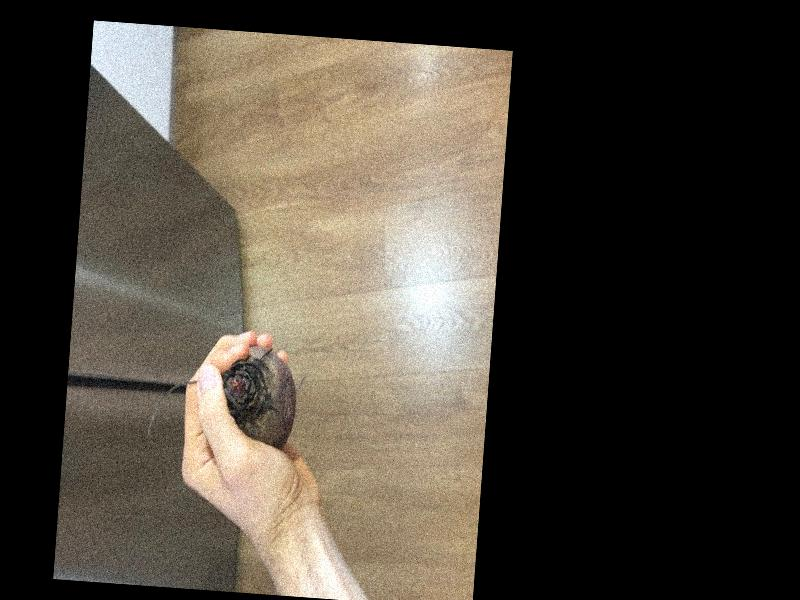Beet: (145, 337, 300, 451)
